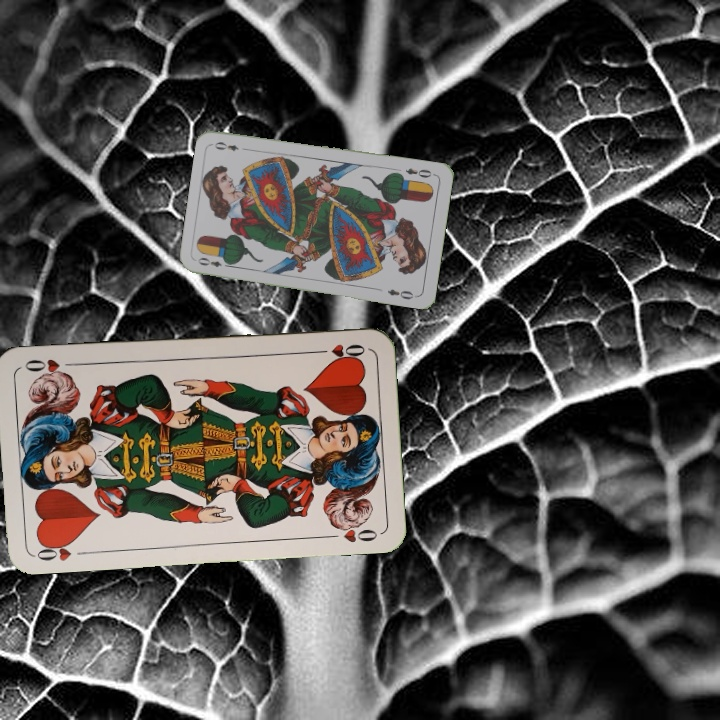EO: (194, 253, 233, 270), (401, 164, 437, 180)
HO: (310, 340, 368, 361), (32, 536, 77, 563)
